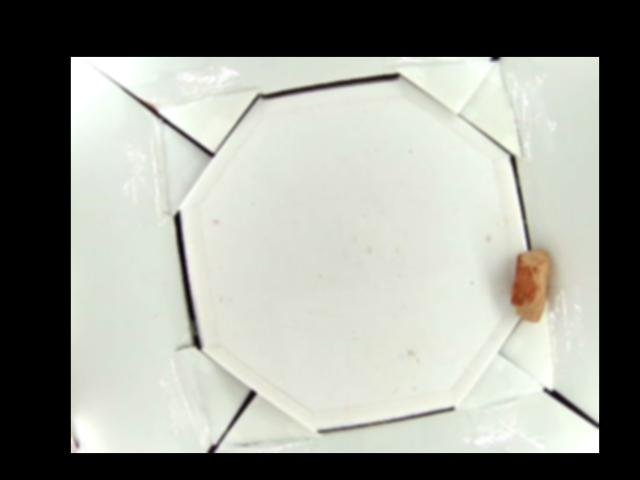Brisk: (510, 250, 552, 323)
